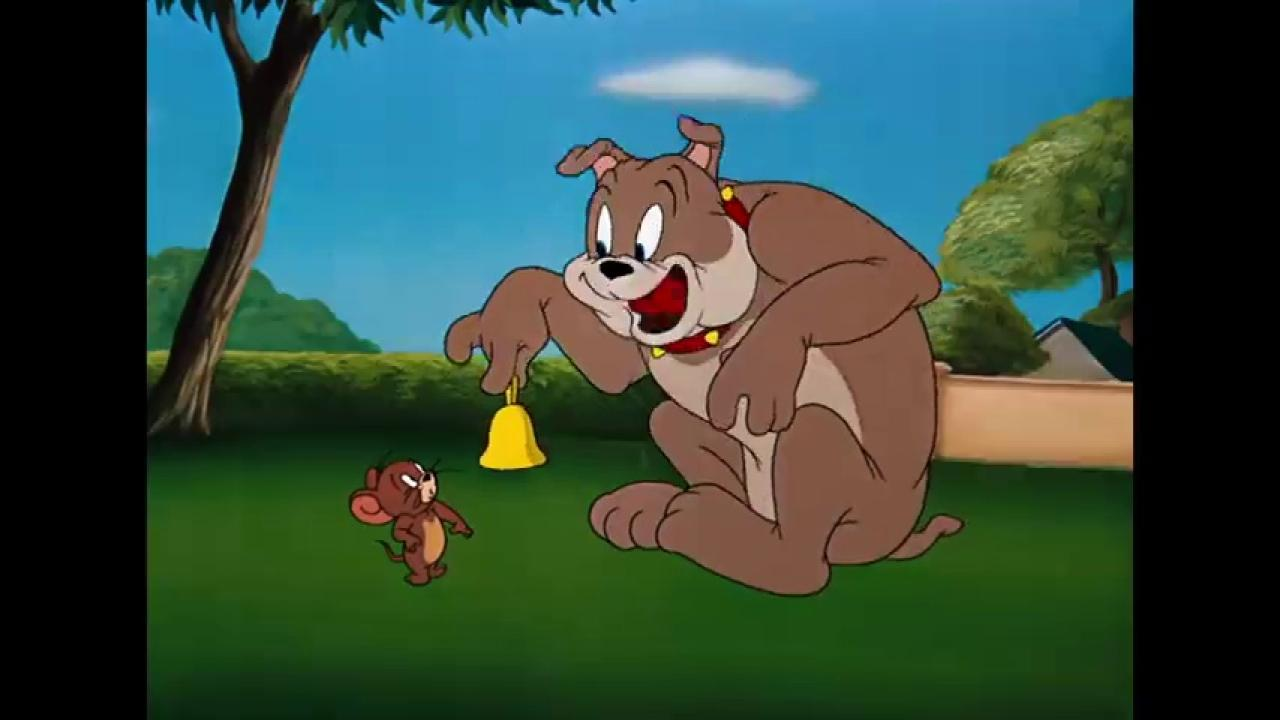Jerry: (348, 453, 473, 588)
